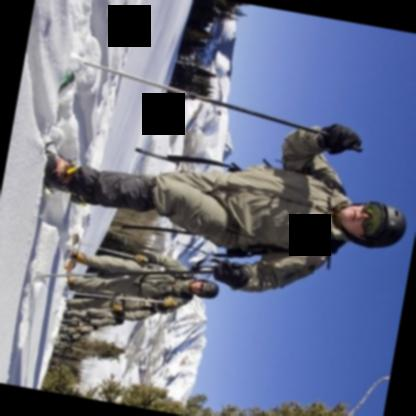backpack: (213, 170, 346, 257), (154, 273, 195, 300), (98, 316, 122, 325), (137, 306, 155, 312)
